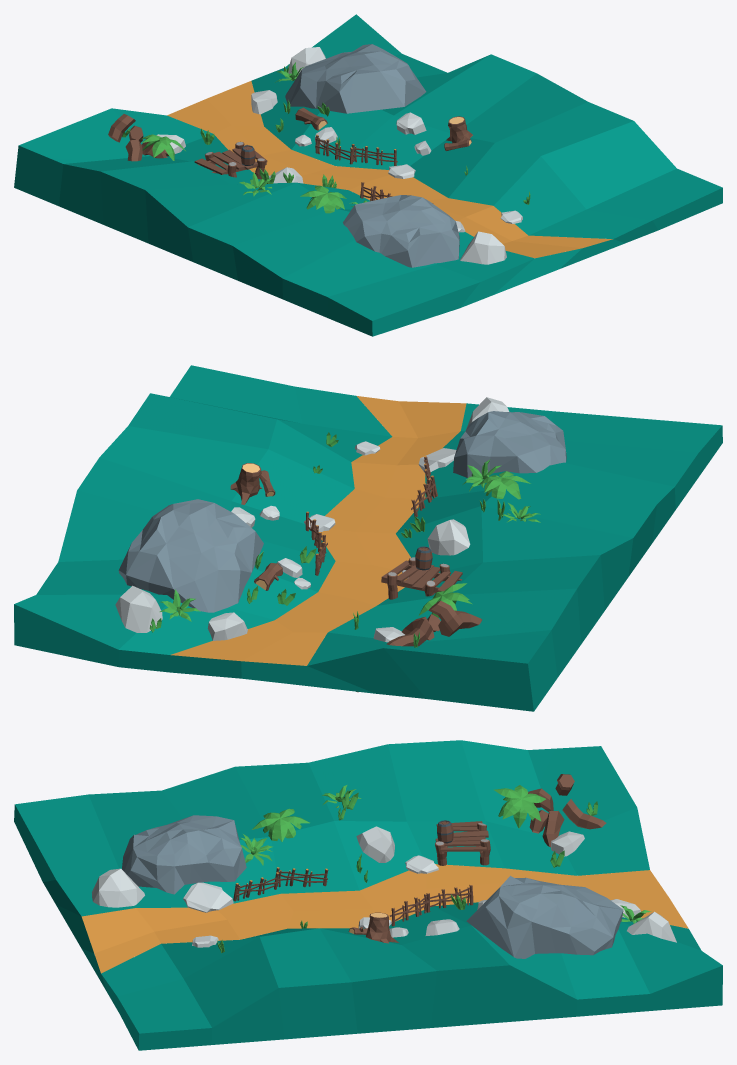
Rendered from forest.glb.
3 renders of one model, top to bottom at view 1: azimuth 30°, elevation 25°; view 2: azimuth 150°, elevation 25°; view 3: azimuth 270°, elevation 25°, orthographic. The views are drawn at different scales.
Visible parts, largest first — view 1: group2009401224, group1922369548, group561706230, group266667135, group1597509149, group624957455, group107018821, group438297063, group654750372; view 2: group2009401224, group1922369548, group561706230, group266667135, group107018821, group1814464028, group654750372, group624957455, group843366372, group438297063, group447429556; view 3: group2009401224, group1922369548, group561706230, group266667135, group1597509149, group438297063, group676907512, group624957455, group1814464028, group107018821, group843366372, group447429556 (+6 smaller).
Boxes of the visible parts, <box> form: group2009401224: <box>14,14,722,336</box>; group1922369548: <box>285,44,426,113</box>; group561706230: <box>343,195,459,267</box>; group266667135: <box>194,141,267,179</box>; group1597509149: <box>460,231,506,264</box>; group624957455: <box>300,185,346,213</box>; group107018821: <box>288,47,325,73</box>; group438297063: <box>140,134,185,160</box>; group654750372: <box>251,90,277,114</box>; group2009401224: <box>14,365,722,711</box>; group1922369548: <box>118,499,263,612</box>; group561706230: <box>453,411,566,477</box>; group266667135: <box>381,557,462,599</box>; group107018821: <box>115,585,162,632</box>; group1814464028: <box>427,519,470,555</box>; group654750372: <box>207,612,247,640</box>; group624957455: <box>477,471,530,499</box>; group843366372: <box>230,463,261,504</box>; group438297063: <box>418,583,472,617</box>; group447429556: <box>356,618,432,692</box>; group2009401224: <box>14,740,722,1050</box>; group1922369548: <box>466,875,623,958</box>; group561706230: <box>122,815,246,894</box>; group266667135: <box>435,821,490,865</box>; group1597509149: <box>92,868,144,907</box>; group438297063: <box>493,785,545,828</box>; group676907512: <box>183,882,233,912</box>; group624957455: <box>252,808,309,841</box>; group1814464028: <box>356,826,394,862</box>; group107018821: <box>627,911,676,942</box>; group843366372: <box>366,912,398,943</box>; group447429556: <box>562,799,606,829</box>.
Bounding box in the file's own units: 1.4 × 0.2224 × 1.52.
